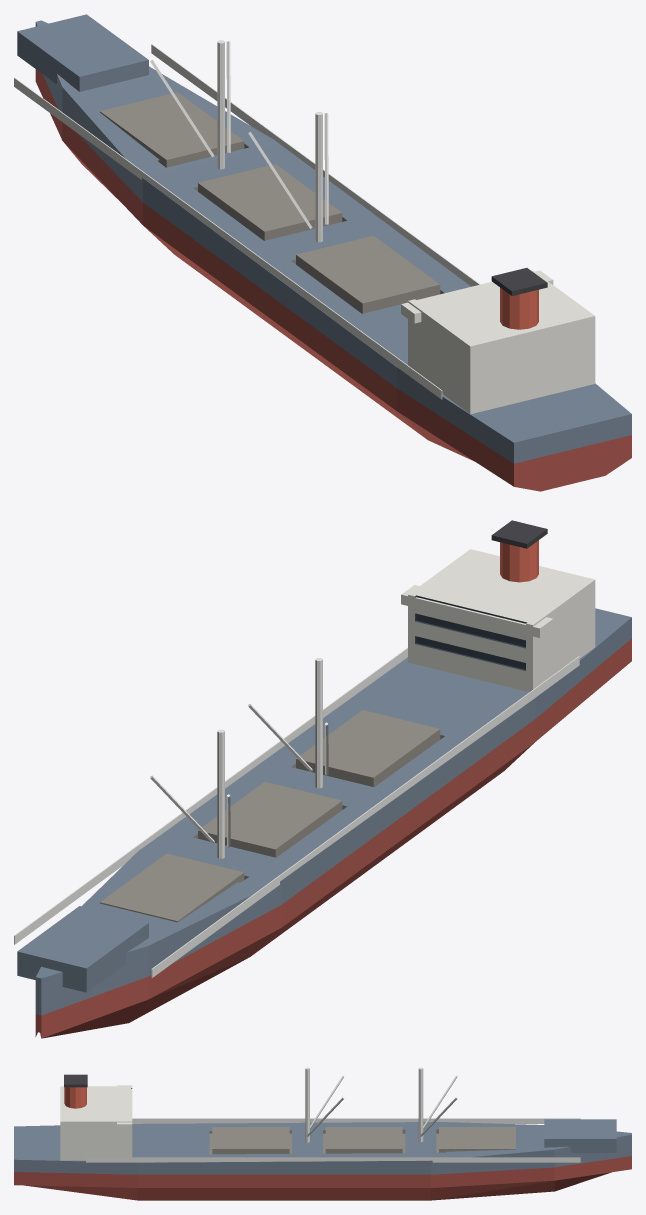
File: freighter.glb
The picture shows the model from 3 angles, top to bottom: view 1: azimuth 30°, elevation 25°; view 2: azimuth 150°, elevation 25°; view 3: azimuth 270°, elevation 25°; orthographic projection. The views are drawn at different scales.
Visible parts, largest first — view 1: freighter; view 2: freighter; view 3: freighter.
Part boxes in pixels (left/top/right/bottom): freighter: left=14, top=14, right=631, bottom=491; freighter: left=14, top=520, right=631, bottom=1038; freighter: left=14, top=1067, right=631, bottom=1200.
Bounding box in the file's own units: 18 × 26 × 120.
